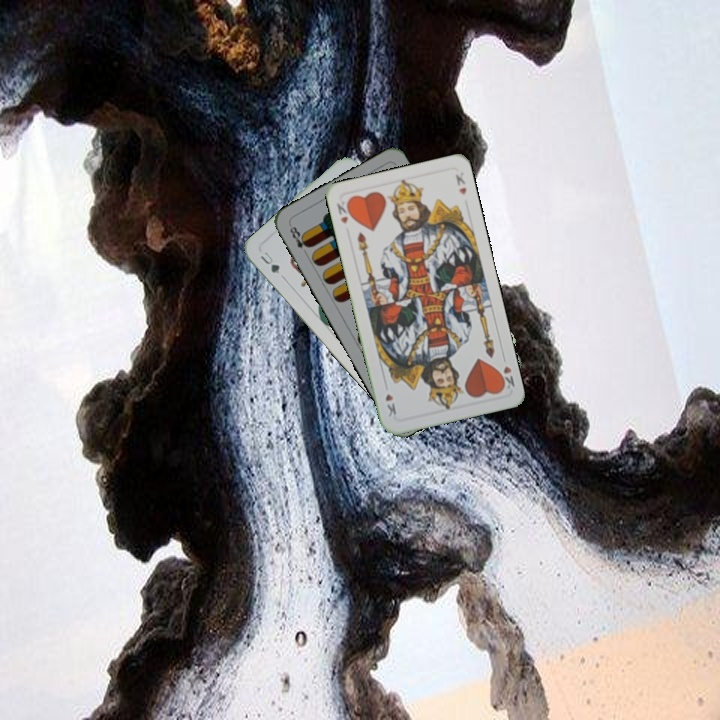E8: (285, 221, 313, 258)
GU: (256, 247, 282, 277)
HK: (494, 351, 517, 392), (332, 195, 354, 226)
